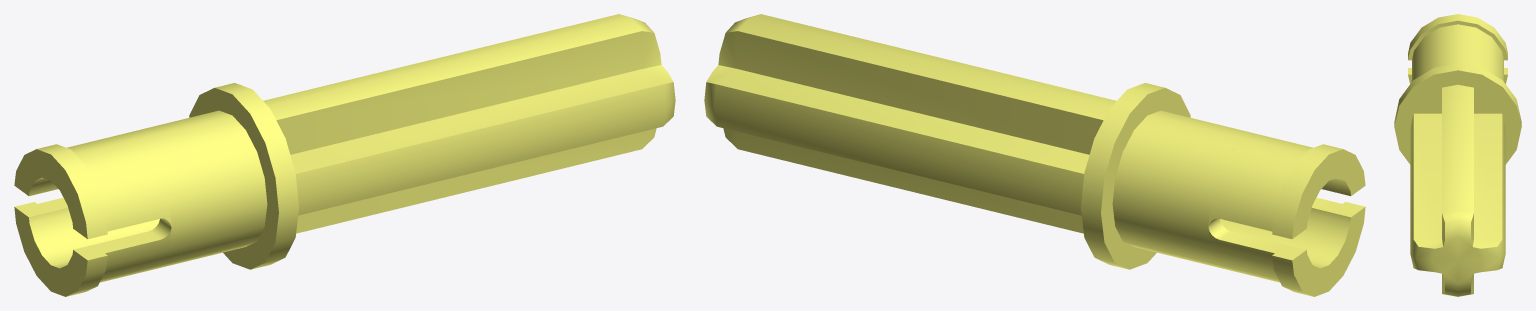
3 views of the same model, side by side, from view 1: azimuth 30°, elevation 25°; view 2: azimuth 150°, elevation 25°; view 3: azimuth 270°, elevation 25° (orthographic). The views are drawn at different scales.
Parts seen in each view (by area): view 1: 65249.dat; view 2: 65249.dat; view 3: 65249.dat.
Boxes of the visible parts, x1,y1,x2,y2 form: 65249.dat: [14, 14, 675, 296]; 65249.dat: [704, 14, 1365, 296]; 65249.dat: [1394, 14, 1521, 296].
Size of the model in its own units: 0.0238 by 0.0064 by 0.0064.
